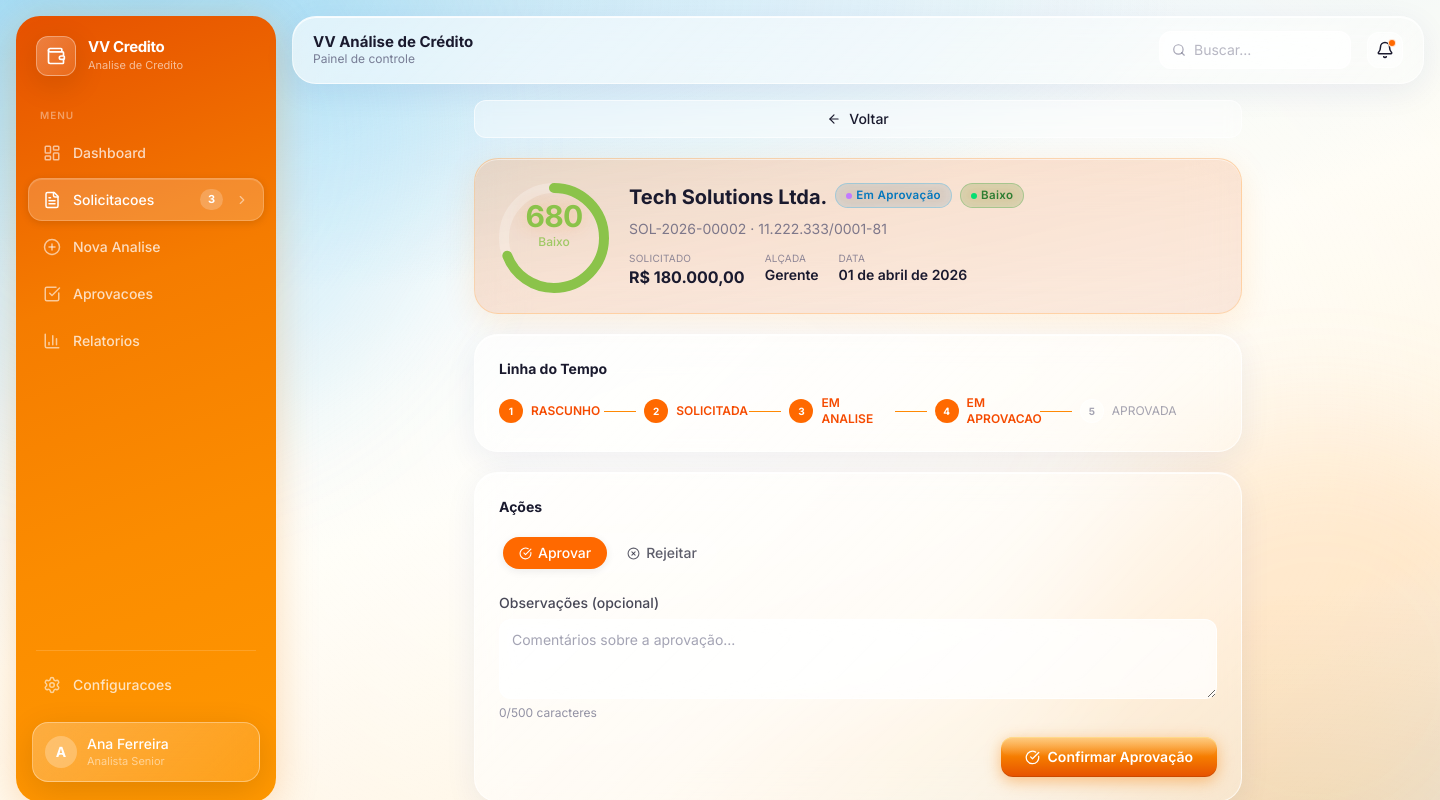
Test: Solicitação Detail — Approval & Rejection Flow › ApprovalForm for an EM_APROVACAO request (req-002) › switches to Reject tab on click
Step 1. Click the button "Rejeitar" → (662, 553), box [611,537,713,569]
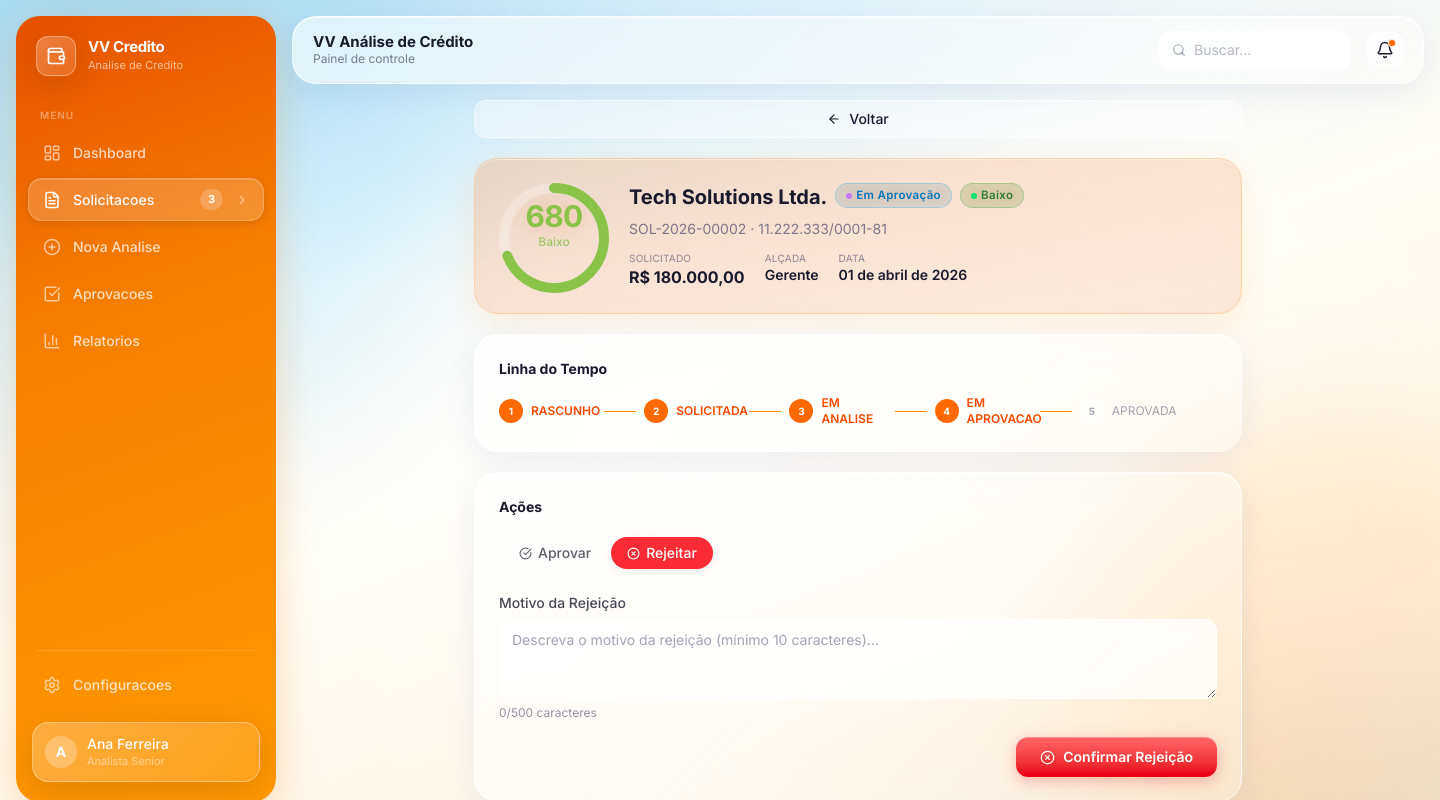
Check: the text box labelled "Motivo da Rejeição" is shown, box [499,619,1217,699]
